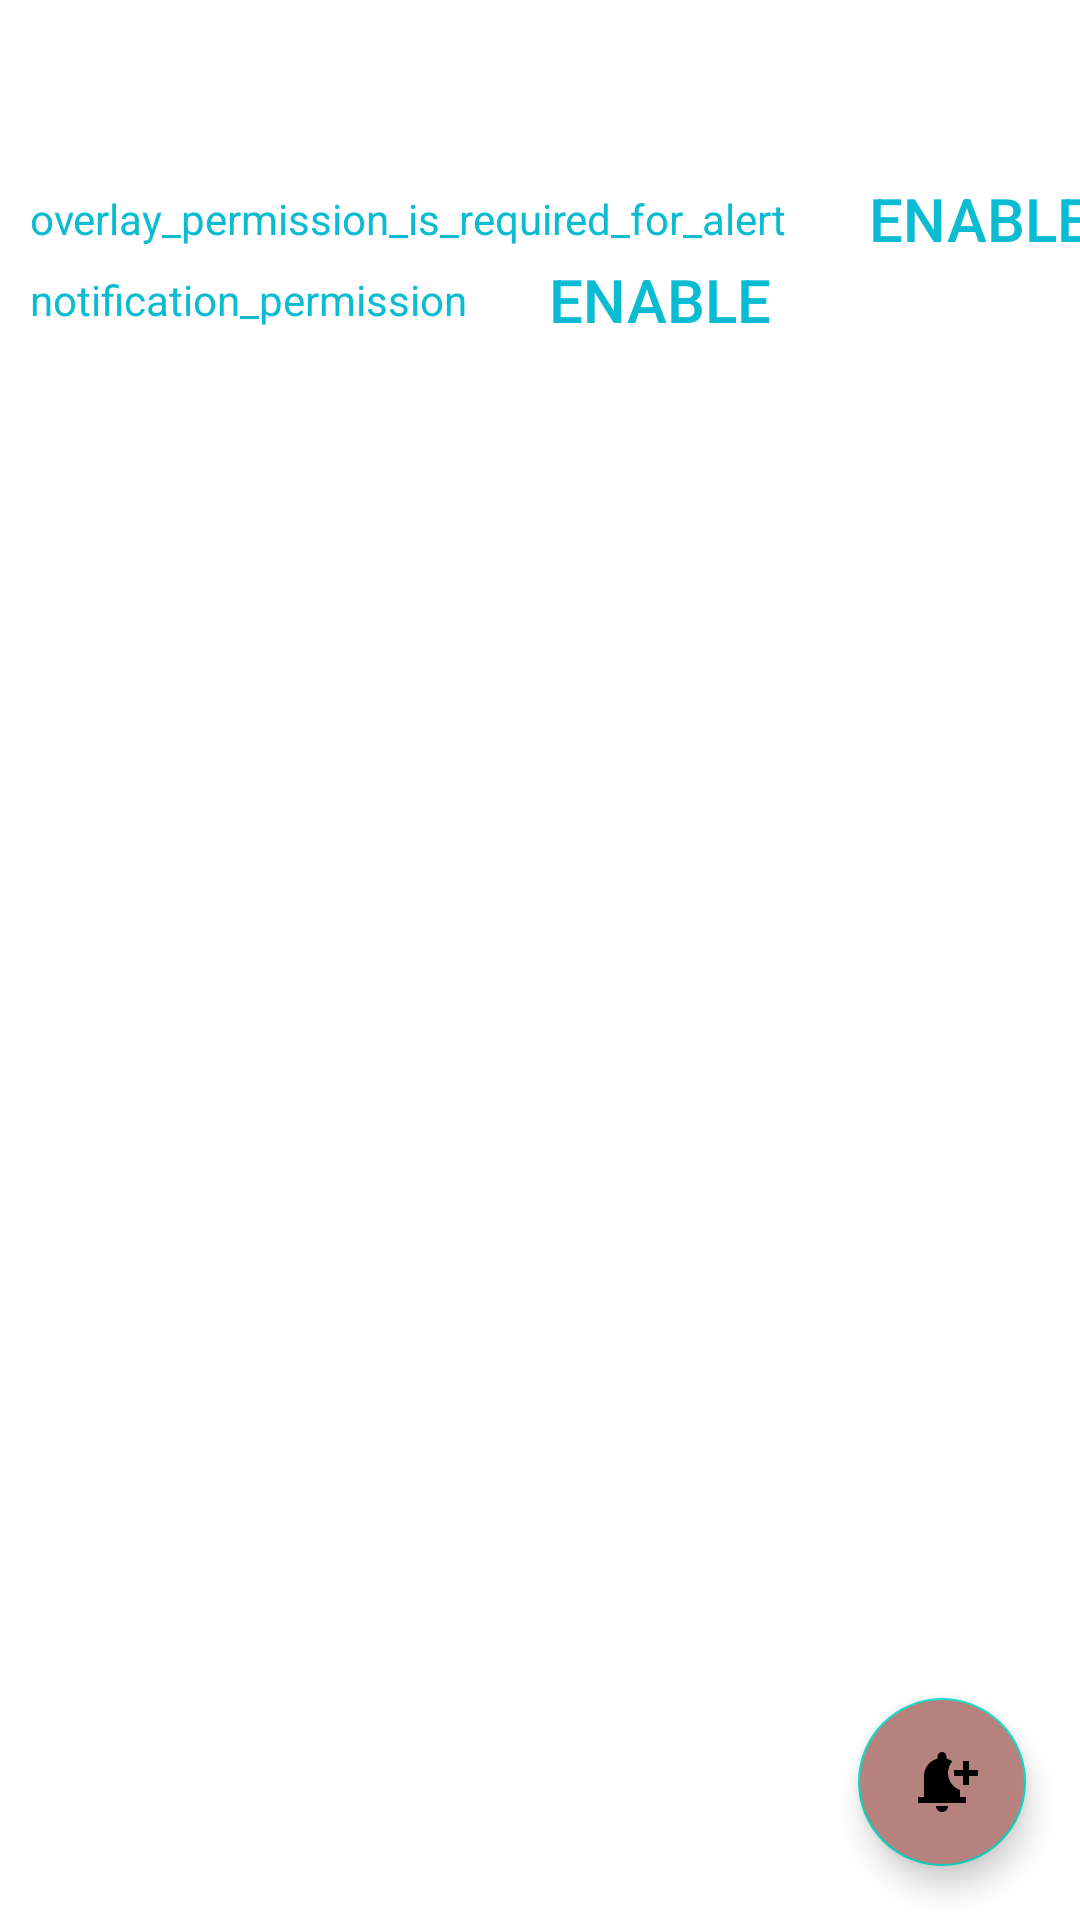

Named icons in this screenshot (1080px×1920px) and their bounding boxes, (x1, y1, x2, y2):
notification: (858, 1698, 1026, 1866)
